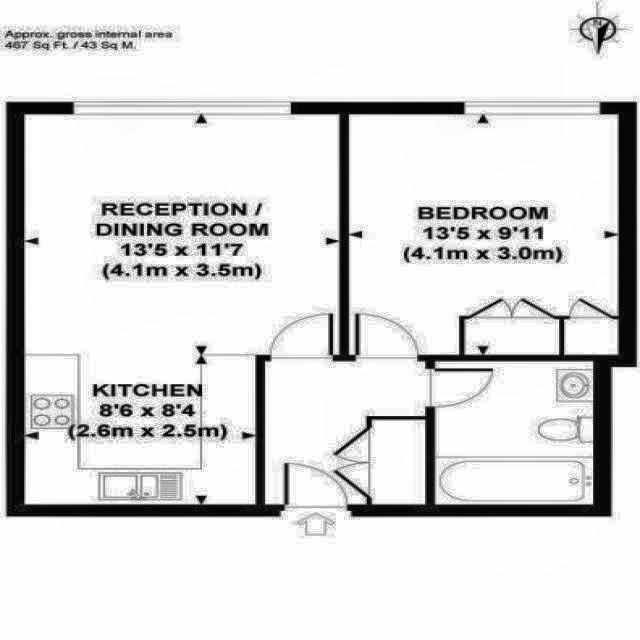room: (25, 114, 339, 505), (350, 115, 618, 356), (264, 361, 426, 504), (437, 361, 591, 504), (371, 421, 423, 505)
